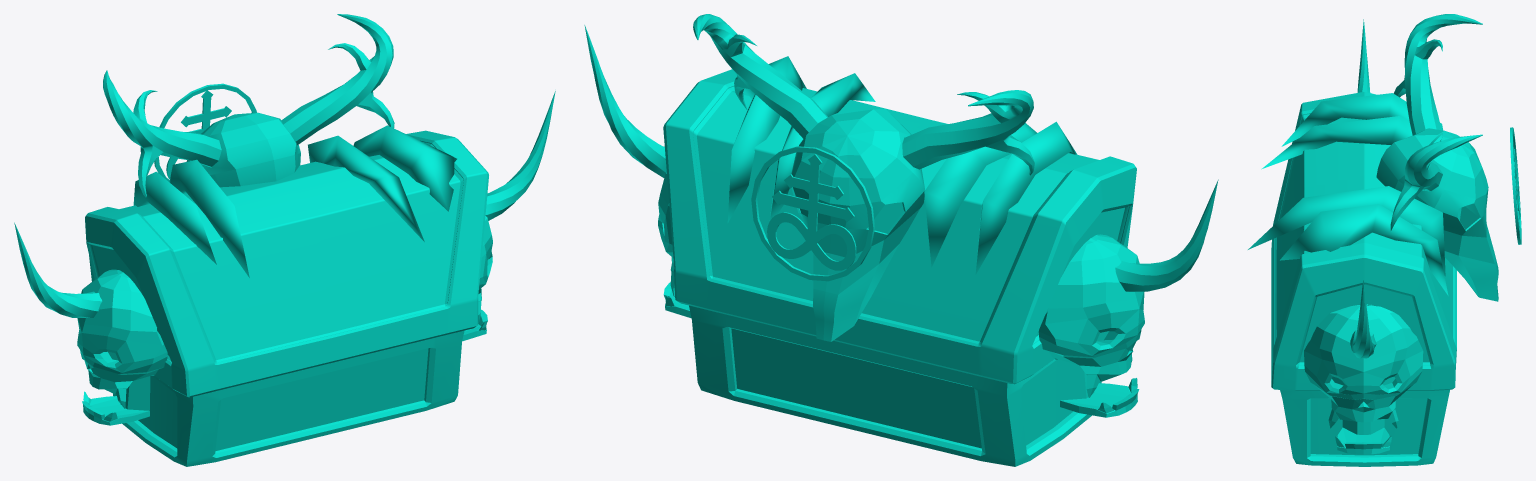
The model's file is MODE_CHEST.fbx.
The picture shows the model from 3 angles, left to right: view 1: azimuth 30°, elevation 25°; view 2: azimuth 150°, elevation 25°; view 3: azimuth 270°, elevation 25°; orthographic projection. The views are drawn at different scales.
Parts seen in each view (by area): view 1: Haut_Chest_2, Bas_Chest_2, Symbol; view 2: Haut_Chest_2, Bas_Chest_2, Symbol; view 3: Haut_Chest_2, Bas_Chest_2, Symbol.
Part boxes in pixels (<box>): Haut_Chest_2: <box>14,14,555,425</box>; Bas_Chest_2: <box>113,330,464,466</box>; Symbol: <box>154,83,256,182</box>; Haut_Chest_2: <box>584,14,1218,417</box>; Bas_Chest_2: <box>689,305,1101,466</box>; Symbol: <box>751,146,874,281</box>; Haut_Chest_2: <box>1248,14,1498,454</box>; Bas_Chest_2: <box>1280,389,1449,466</box>; Symbol: <box>1510,127,1521,244</box>.
Bounding box in the file's own units: 0.0597 × 0.0345 × 0.0266.
